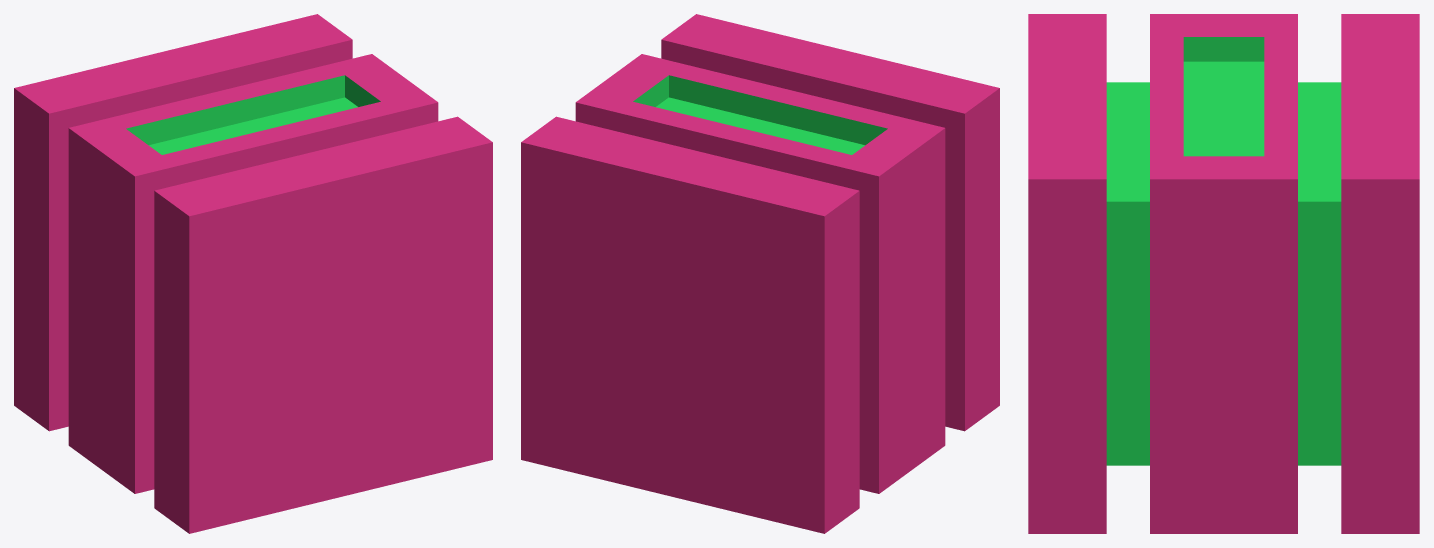
The picture shows the model from 3 angles, left to right: view 1: azimuth 30°, elevation 25°; view 2: azimuth 150°, elevation 25°; view 3: azimuth 270°, elevation 25°; orthographic projection. The views are drawn at different scales.
Parts seen in each view (by area): view 1: Cube; view 2: Cube; view 3: Cube.
Boxes of the visible parts, x1=… form: Cube: x1=14, y1=14, x2=492, y2=533; Cube: x1=521, y1=14, x2=999, y2=533; Cube: x1=1028, y1=14, x2=1419, y2=533.
Size of the model in its own units: 200 by 200 by 200.
